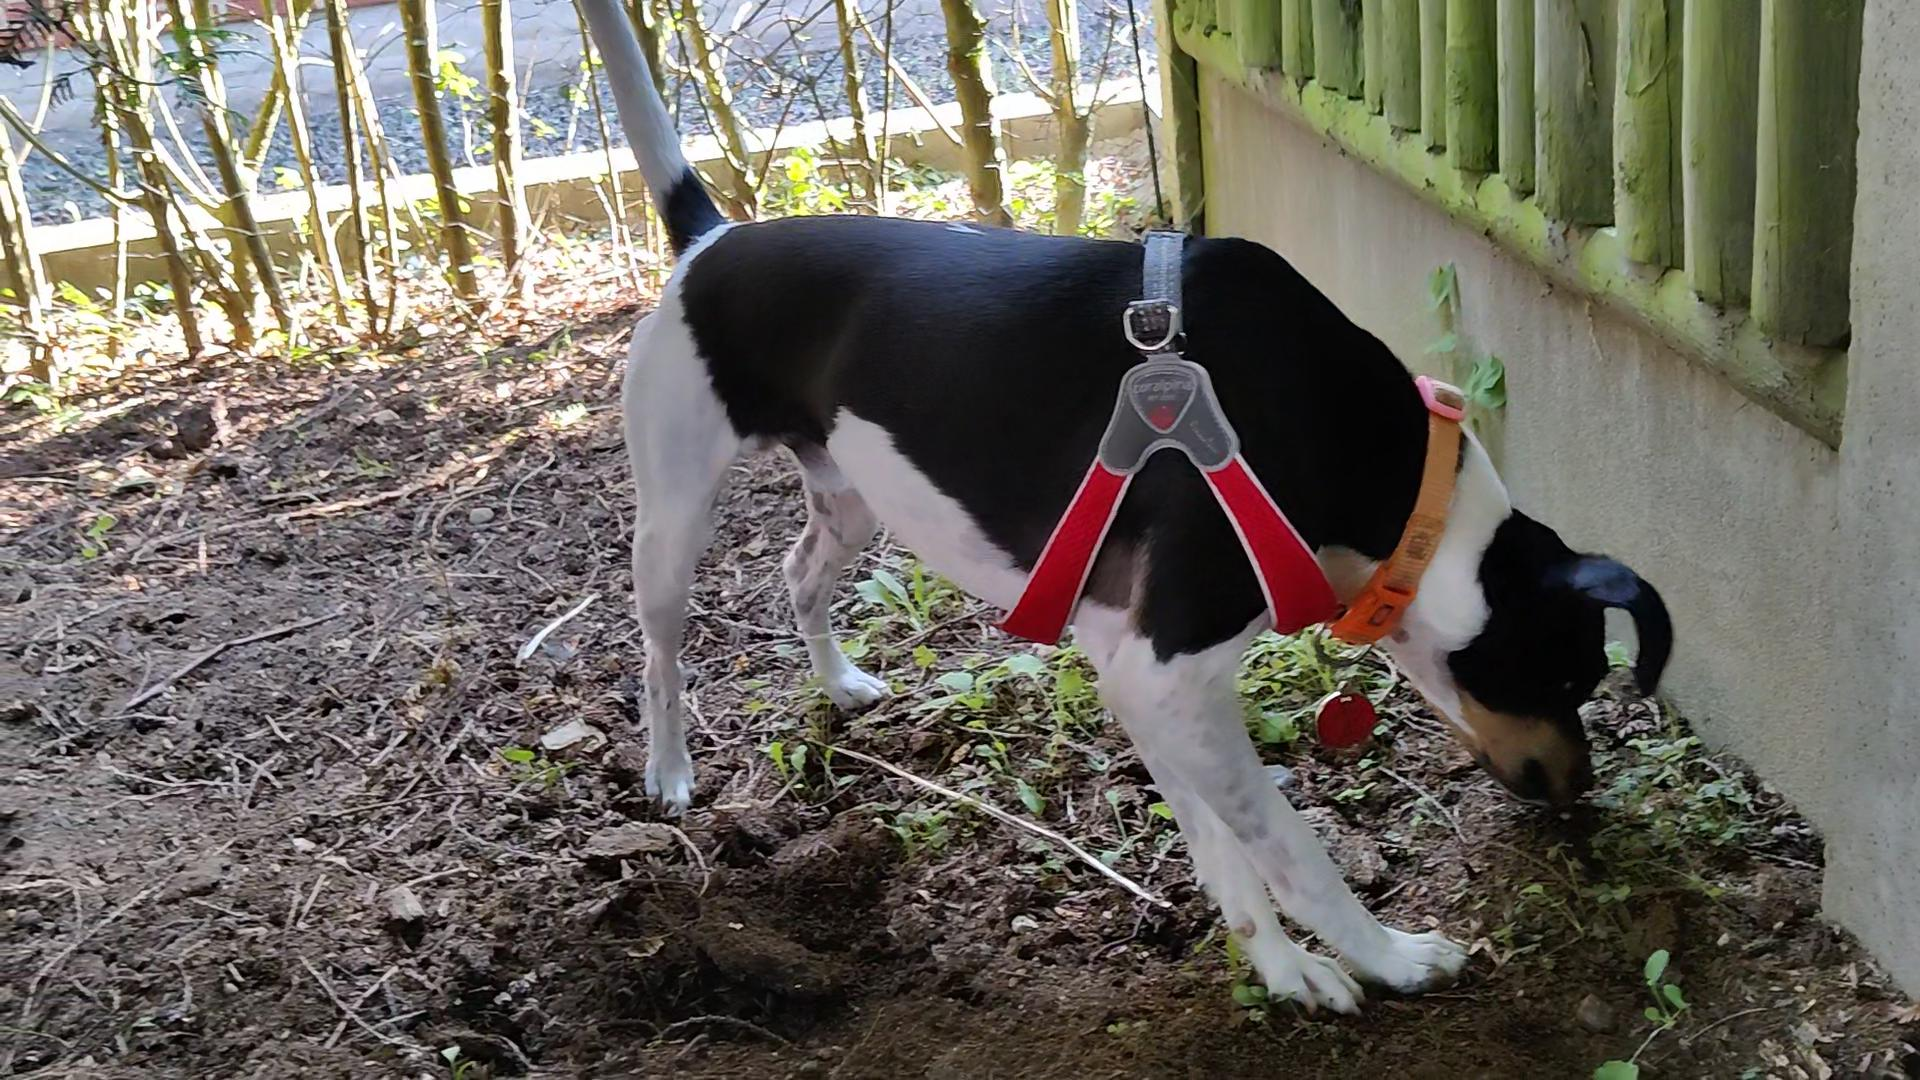Dog: (564, 0, 1671, 1010)
